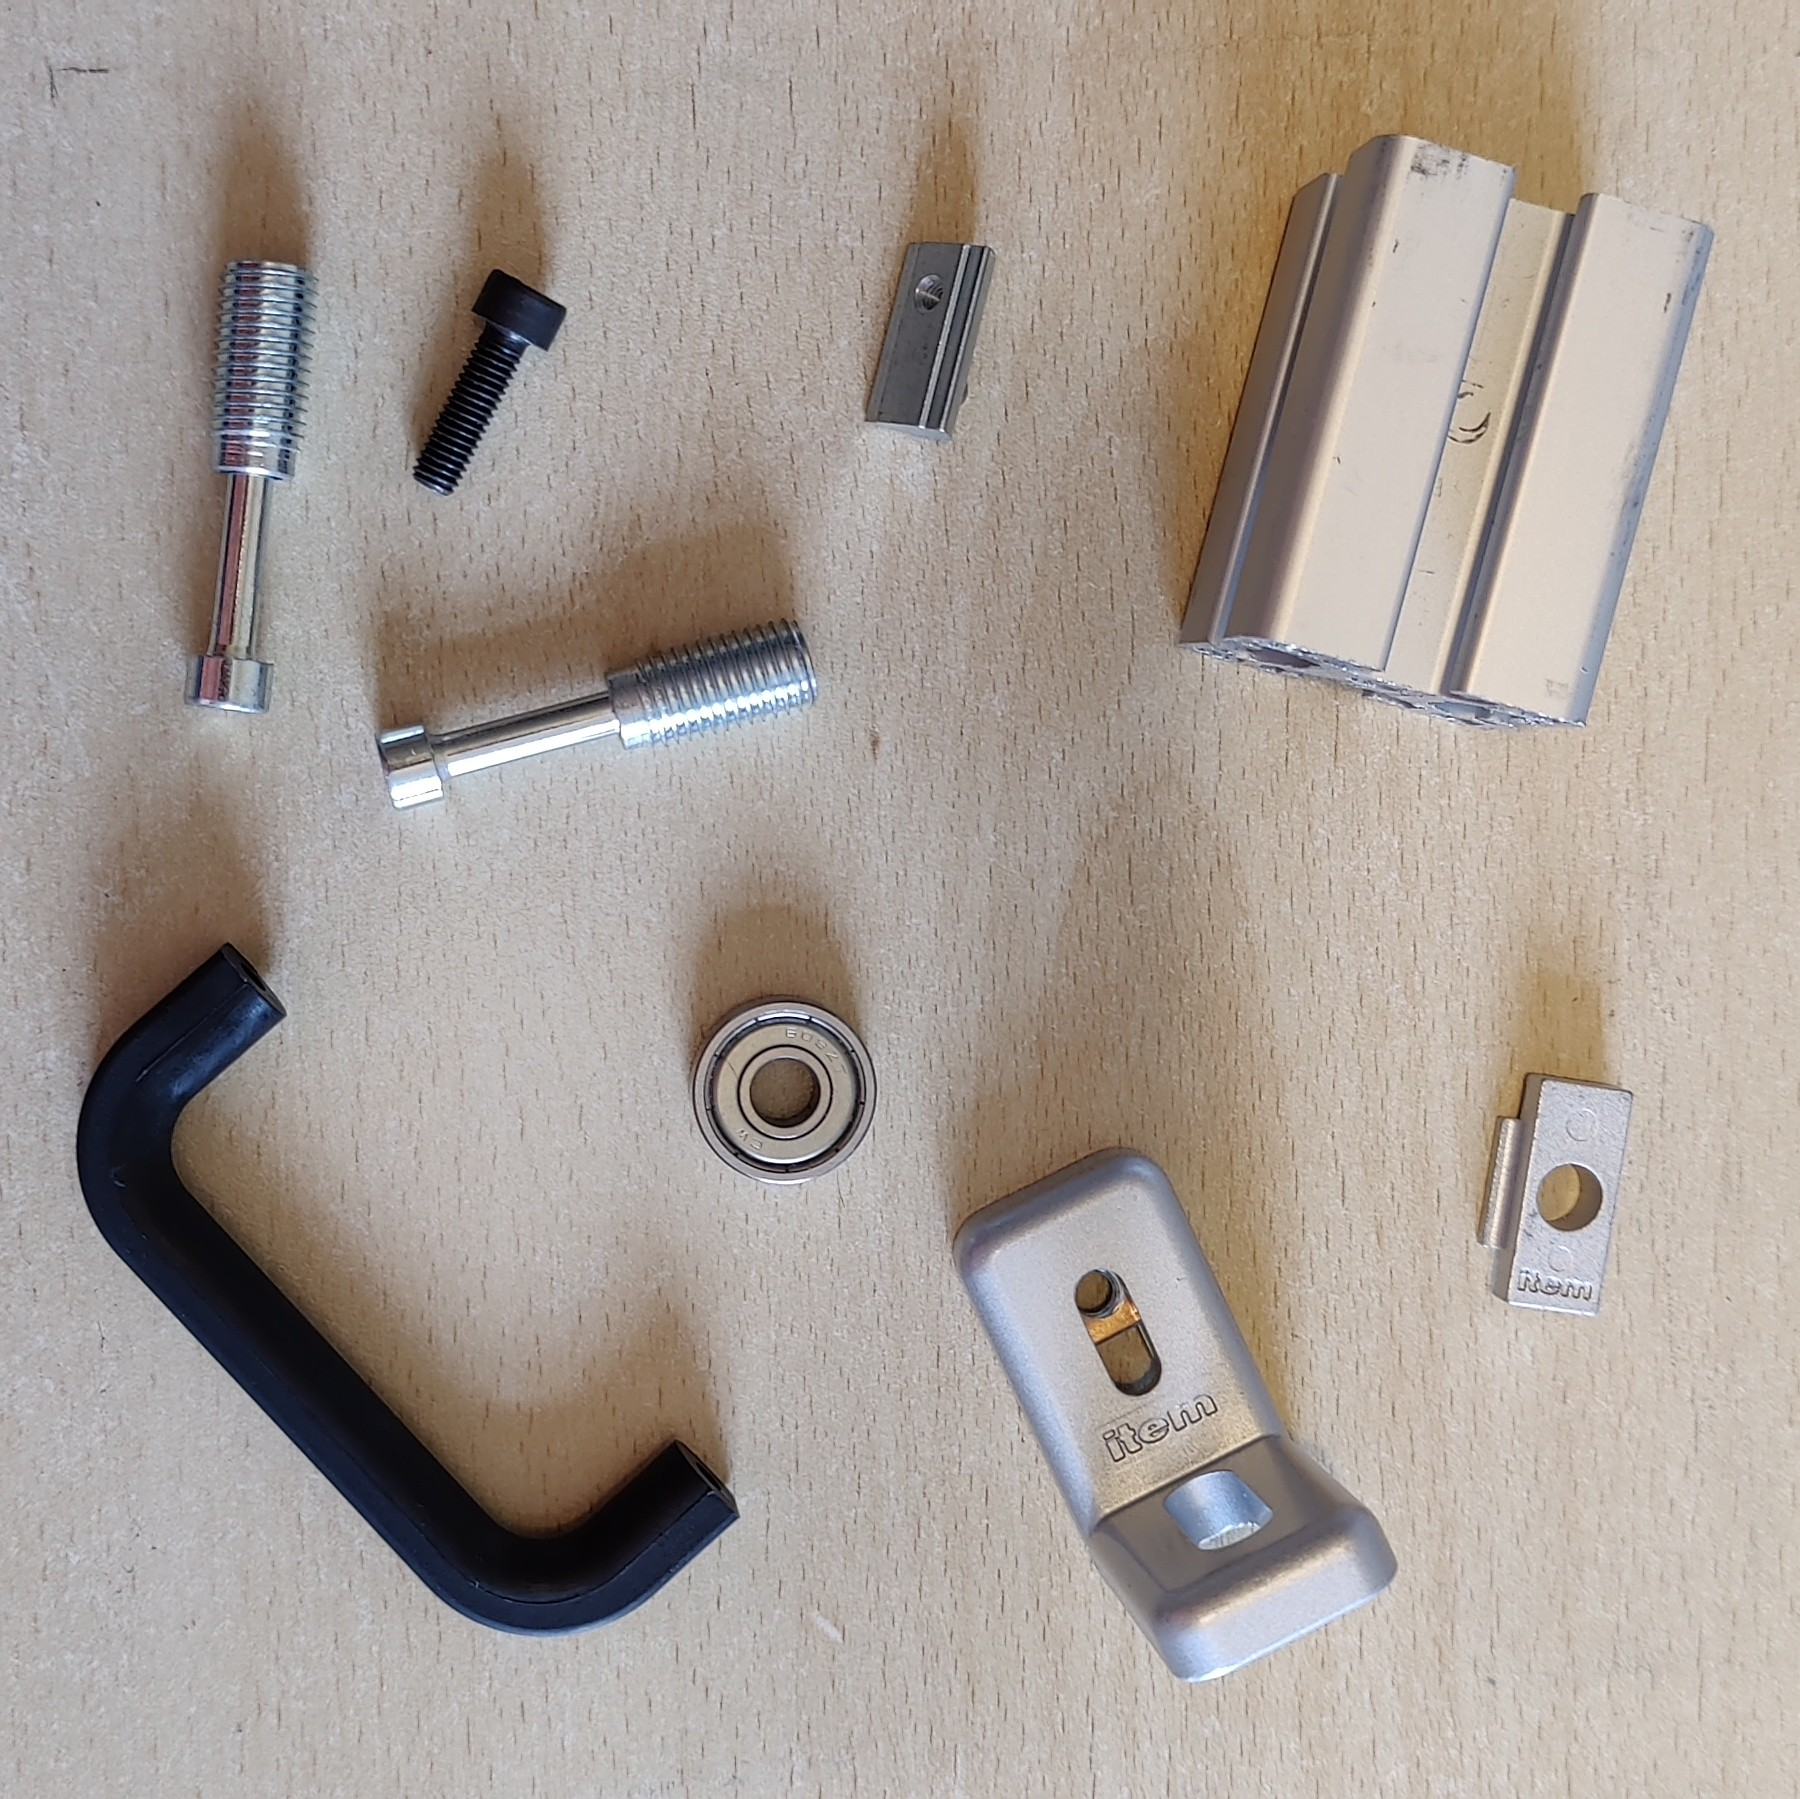Aluminium Extension: (1173, 130, 1716, 735)
Ball Bearing: (688, 992, 879, 1188)
Multiwinkel: (949, 1142, 1401, 1687)
Pull Handle: (72, 937, 743, 1641)
Shoulder Socket Head Cap Screw: (372, 611, 822, 814), (181, 255, 321, 718)
Socket Head Cap Screw: (408, 260, 570, 498)
T Nut Square: (1472, 1064, 1639, 1321)
T Spring Nut: (861, 237, 996, 446)
